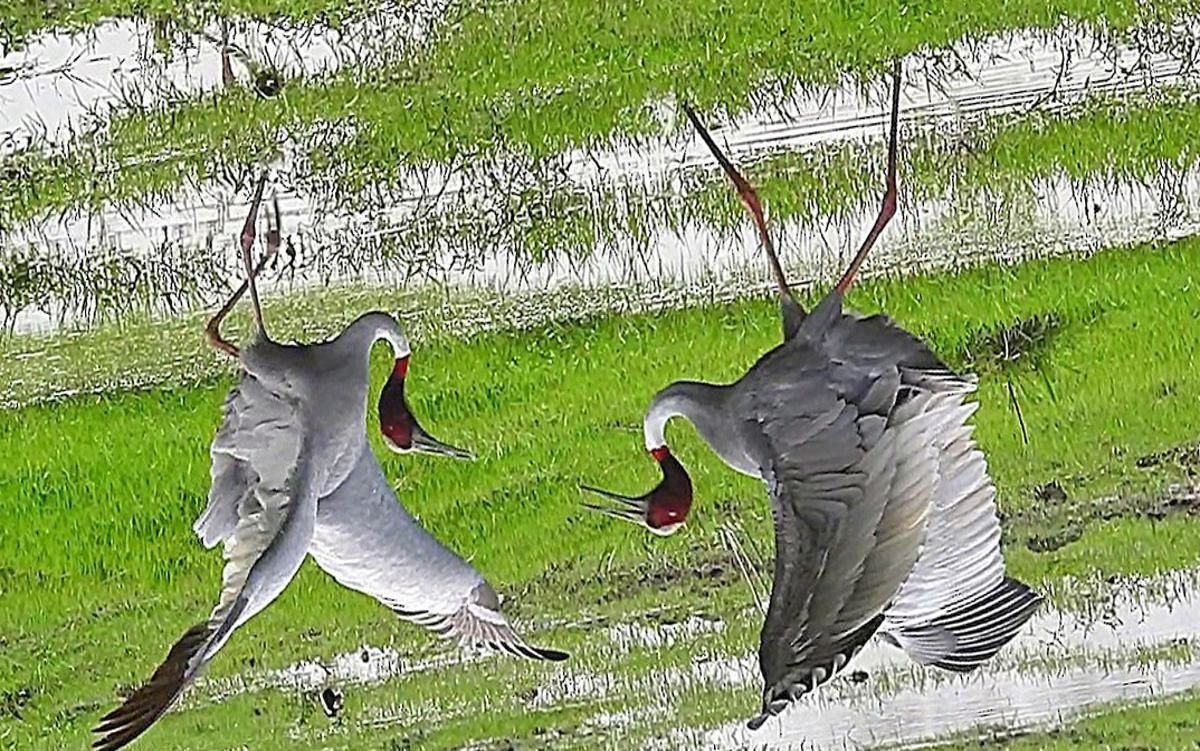crane: (585, 47, 1036, 718), (116, 130, 561, 713)
